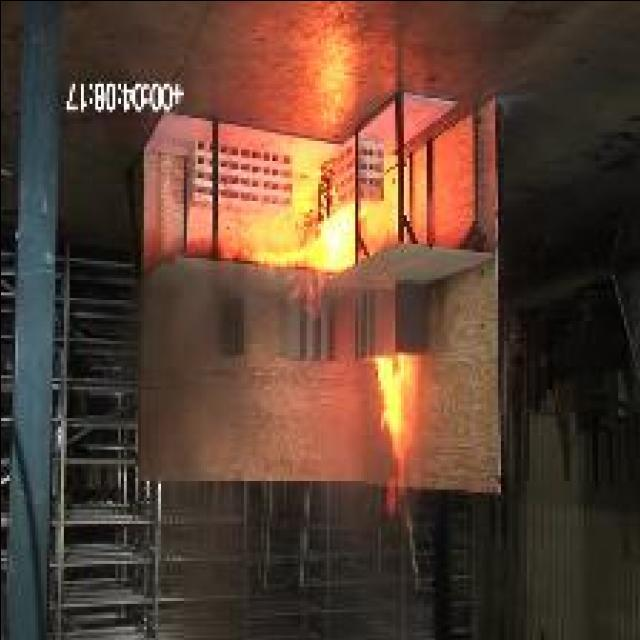Fire: (252, 168, 352, 314), (374, 356, 414, 513)
